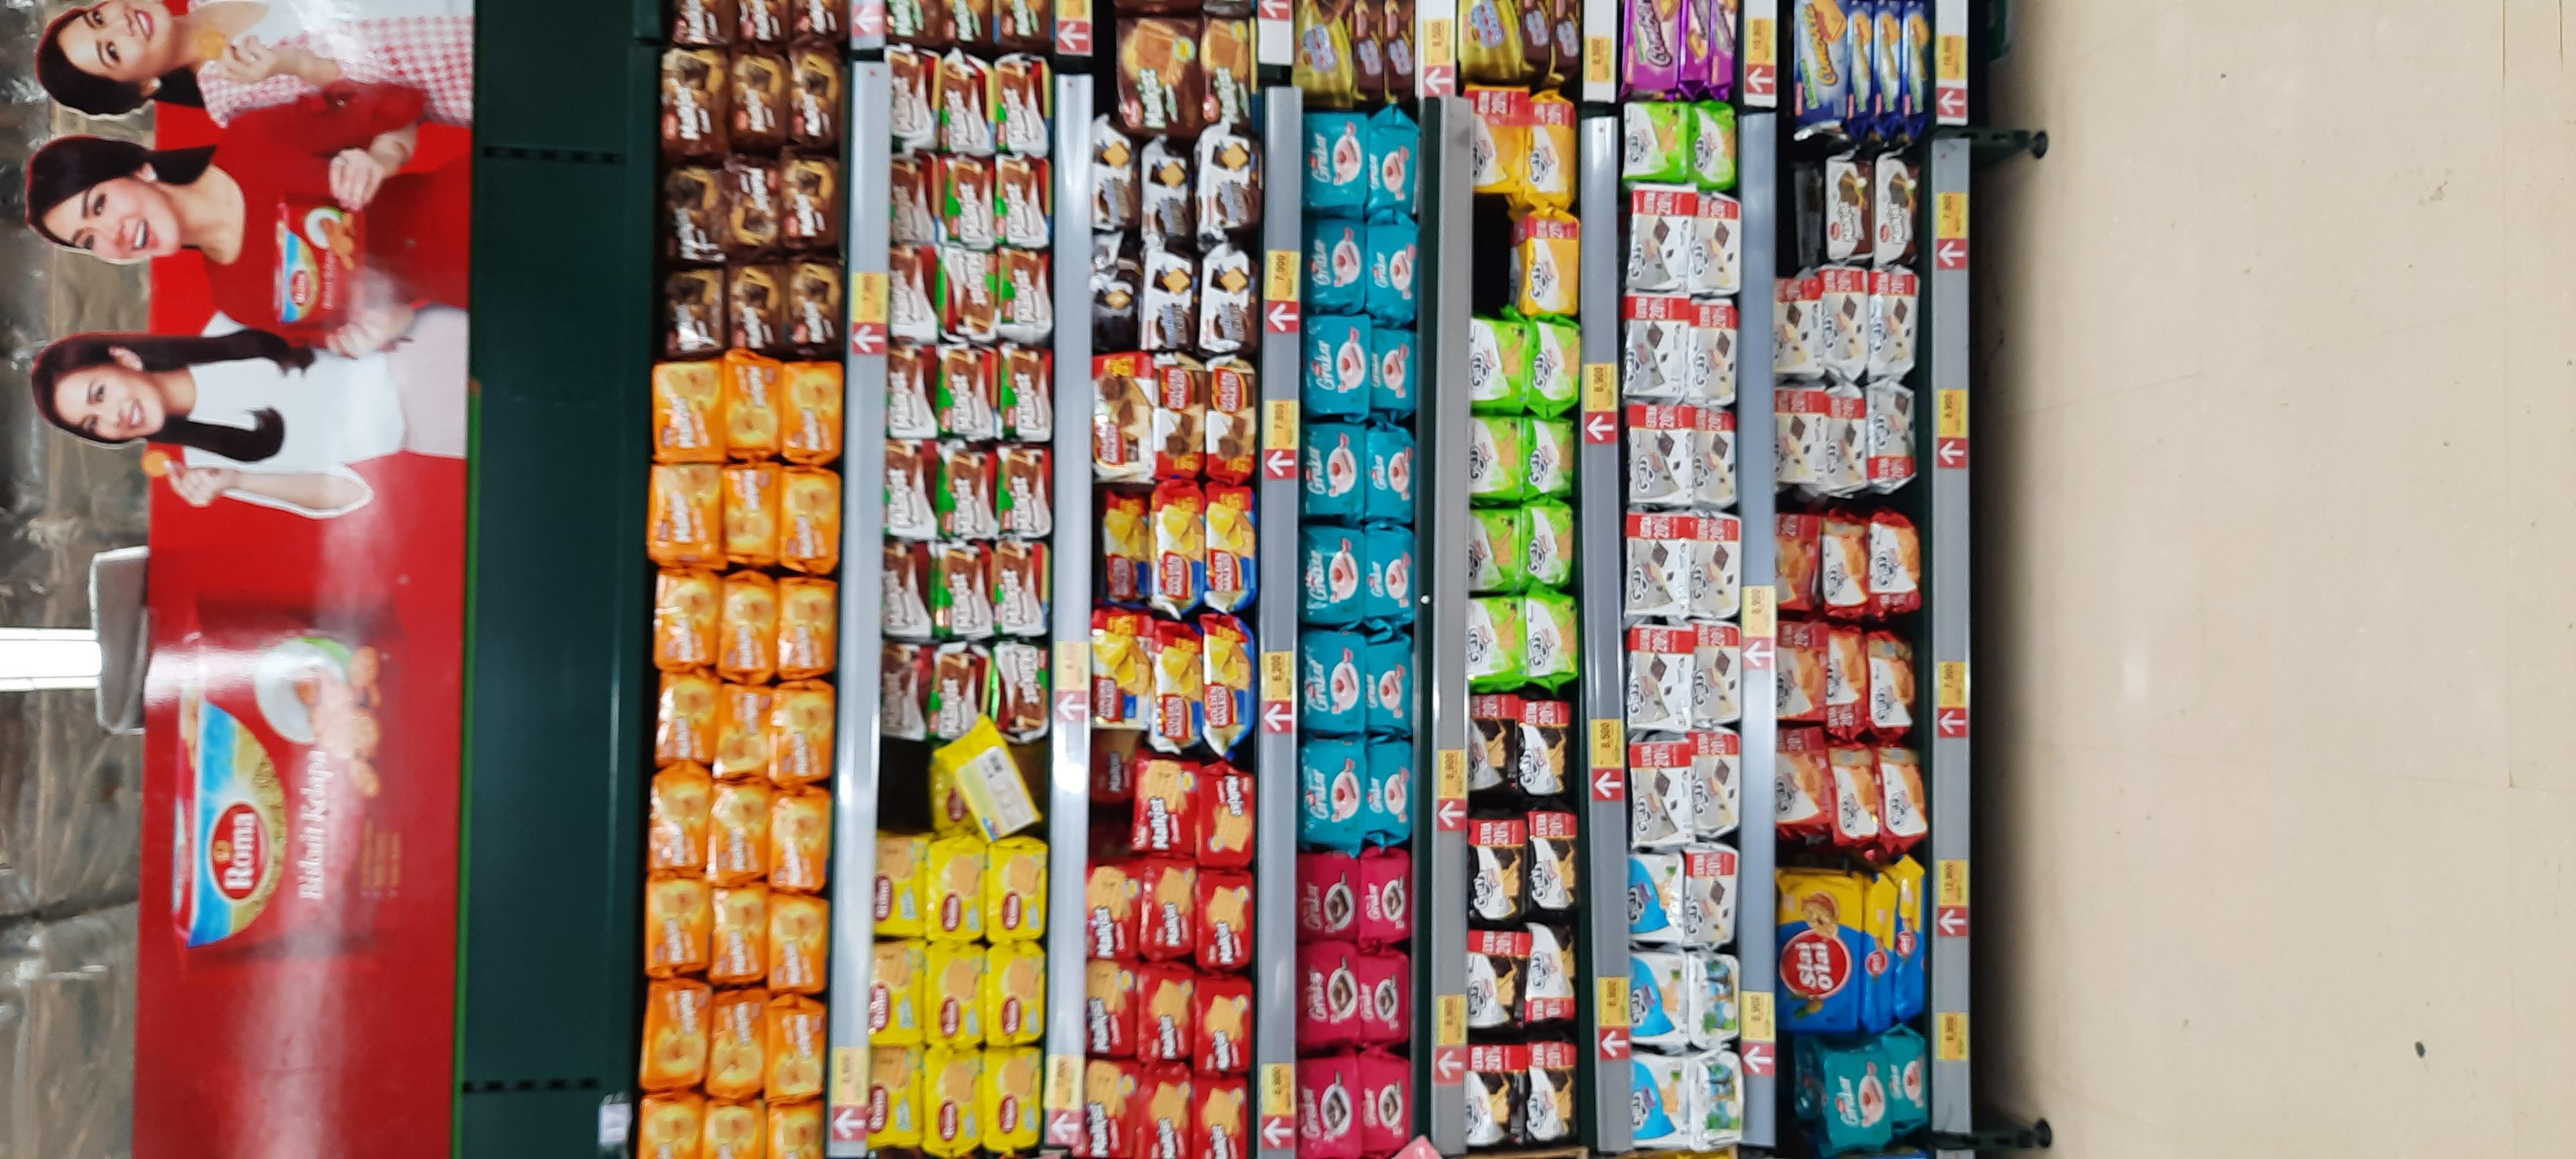90101225202101: (1526, 816, 1584, 918), (1464, 694, 1521, 796), (1523, 1042, 1580, 1144), (1529, 931, 1587, 1033), (1520, 699, 1577, 801), (1465, 1042, 1523, 1143), (1470, 929, 1526, 1031), (1467, 814, 1523, 914)
90101225205101: (1462, 87, 1529, 194), (1515, 213, 1580, 320), (1529, 92, 1579, 204)
90101225209101: (1626, 855, 1684, 942), (1628, 1057, 1684, 1144), (1630, 954, 1686, 1041), (1686, 1057, 1741, 1144), (1686, 959, 1741, 1046)
90101225212101: (1469, 599, 1523, 691), (1467, 509, 1521, 601), (1462, 410, 1516, 502), (1523, 594, 1577, 686), (1523, 320, 1577, 412), (1526, 417, 1580, 509), (1525, 496, 1579, 588), (1470, 318, 1523, 410), (1628, 98, 1681, 190), (1687, 100, 1740, 192)
90101225218101: (1618, 299, 1677, 414), (1687, 727, 1746, 842), (1631, 732, 1690, 845), (1625, 619, 1684, 732), (1684, 511, 1743, 624), (1681, 299, 1740, 412), (1684, 839, 1743, 952), (1682, 621, 1741, 734), (1690, 190, 1748, 305), (1625, 189, 1682, 302), (1628, 511, 1686, 624), (1625, 415, 1682, 529), (1684, 410, 1741, 524), (1764, 383, 1819, 494), (1810, 381, 1865, 492), (1861, 391, 1916, 502), (1769, 271, 1824, 383), (1814, 261, 1868, 373), (1865, 266, 1919, 376)
90101225226101: (1778, 731, 1833, 836), (1825, 625, 1870, 732), (1776, 619, 1822, 721), (1866, 642, 1917, 732), (1870, 525, 1919, 616), (1883, 758, 1932, 849), (1774, 514, 1820, 604), (1822, 525, 1868, 614), (1827, 754, 1871, 842)
KhongGuanMalkistCoklat: (1199, 253, 1255, 351), (1086, 135, 1142, 233), (1140, 143, 1196, 241), (1199, 136, 1255, 235), (1142, 254, 1198, 348)
KhongGuanSaltCheeseCombociz: (1792, 3, 1851, 113), (1878, 5, 1902, 112), (1904, 7, 1927, 113), (1851, 8, 1874, 113)
NabatiGrakerRichberyCheese: (1306, 740, 1362, 837), (1309, 103, 1365, 200), (1306, 425, 1362, 522), (1301, 627, 1357, 724), (1825, 1052, 1879, 1151), (1308, 215, 1362, 312), (1314, 317, 1368, 414), (1308, 524, 1362, 621), (1367, 742, 1413, 834), (1364, 320, 1410, 412), (1362, 520, 1408, 612), (1364, 642, 1410, 734), (1375, 117, 1421, 207), (1372, 222, 1418, 312), (1365, 430, 1411, 520), (1889, 1034, 1932, 1126)
NabatiGrakerRichoco: (1295, 1061, 1360, 1156), (1291, 845, 1357, 941), (1295, 944, 1360, 1038), (1362, 947, 1413, 1039), (1360, 1057, 1411, 1148), (1365, 845, 1411, 944)
NissinGoldenMalkistButter: (1092, 621, 1145, 734), (1150, 637, 1203, 750), (1204, 499, 1257, 612), (1155, 496, 1207, 609), (1204, 625, 1255, 739), (1101, 499, 1152, 612)
NissinGoldenMalkistChocolate: (1089, 356, 1155, 478), (1204, 371, 1253, 476), (1157, 371, 1204, 476)
RomaCreamCrackers: (982, 1046, 1040, 1146), (874, 836, 931, 936), (984, 839, 1042, 937), (927, 841, 982, 941), (987, 944, 1043, 1044), (925, 944, 981, 1044), (927, 1047, 982, 1148), (866, 1044, 922, 1144), (867, 947, 923, 1046)
RomaMalkistAbon: (1114, 15, 1201, 128), (1199, 13, 1253, 125)
RomaMalkistCappucino: (882, 154, 933, 254), (881, 640, 931, 739), (887, 51, 938, 149), (885, 250, 935, 348), (881, 348, 930, 447), (881, 443, 930, 542), (881, 542, 930, 640), (941, 451, 996, 538), (936, 540, 991, 627), (999, 451, 1053, 538), (992, 543, 1046, 630), (933, 648, 987, 735), (996, 647, 1050, 734), (997, 350, 1051, 437), (997, 251, 1051, 338), (940, 250, 994, 337), (938, 156, 992, 243), (996, 57, 1050, 144), (938, 62, 992, 149), (941, 353, 996, 438), (997, 156, 1051, 241)
RomaMalkistCoklat: (659, 51, 720, 151), (787, 53, 844, 144), (660, 271, 720, 356), (720, 166, 779, 251), (784, 266, 843, 350), (780, 164, 839, 248), (724, 266, 782, 350), (660, 171, 718, 254), (726, 54, 784, 138)
RomaMalkistCoklatKelapa: (1827, 158, 1868, 263), (1871, 156, 1912, 261)
RomaMalkistCrackers: (1132, 760, 1196, 849), (1086, 864, 1142, 957), (1081, 964, 1137, 1051), (1196, 875, 1252, 962), (1142, 867, 1198, 954), (1193, 1072, 1249, 1159), (1135, 1072, 1191, 1159), (1198, 775, 1252, 864), (1138, 972, 1193, 1059), (1196, 982, 1250, 1069), (1079, 1072, 1134, 1159)
RomaMalkistKejuManis: (766, 891, 828, 993), (782, 361, 844, 463), (641, 873, 703, 973), (766, 1001, 826, 1103), (705, 995, 766, 1097), (708, 882, 769, 983), (649, 773, 710, 875), (710, 778, 770, 880), (769, 790, 830, 891), (716, 463, 777, 565), (646, 985, 706, 1085), (652, 358, 713, 458), (651, 460, 711, 560), (652, 571, 713, 671), (652, 668, 713, 768), (716, 358, 777, 458), (716, 576, 777, 676), (777, 466, 838, 566), (775, 578, 836, 678), (772, 685, 833, 785), (715, 680, 772, 776)
SlaiOlaiNanas: (1778, 875, 1860, 1033), (1858, 877, 1898, 1031), (1891, 867, 1929, 1021)
